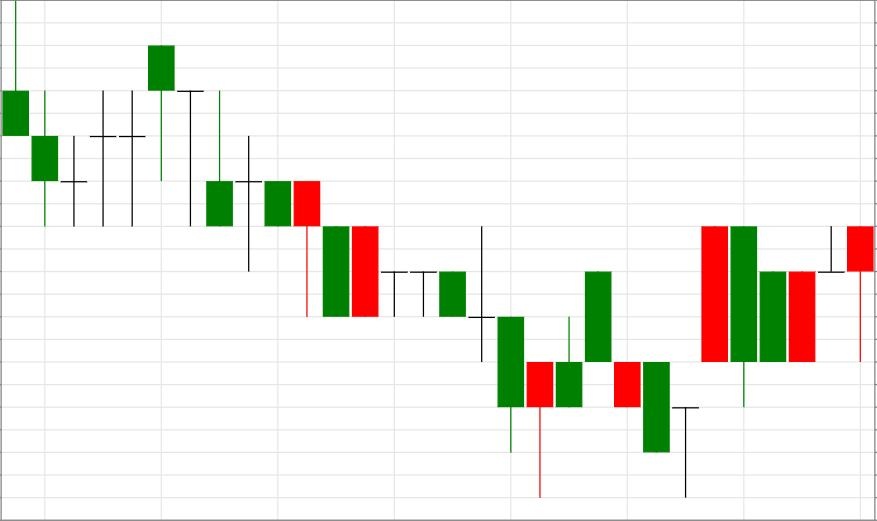hammer_rise: (382, 225, 554, 497)
